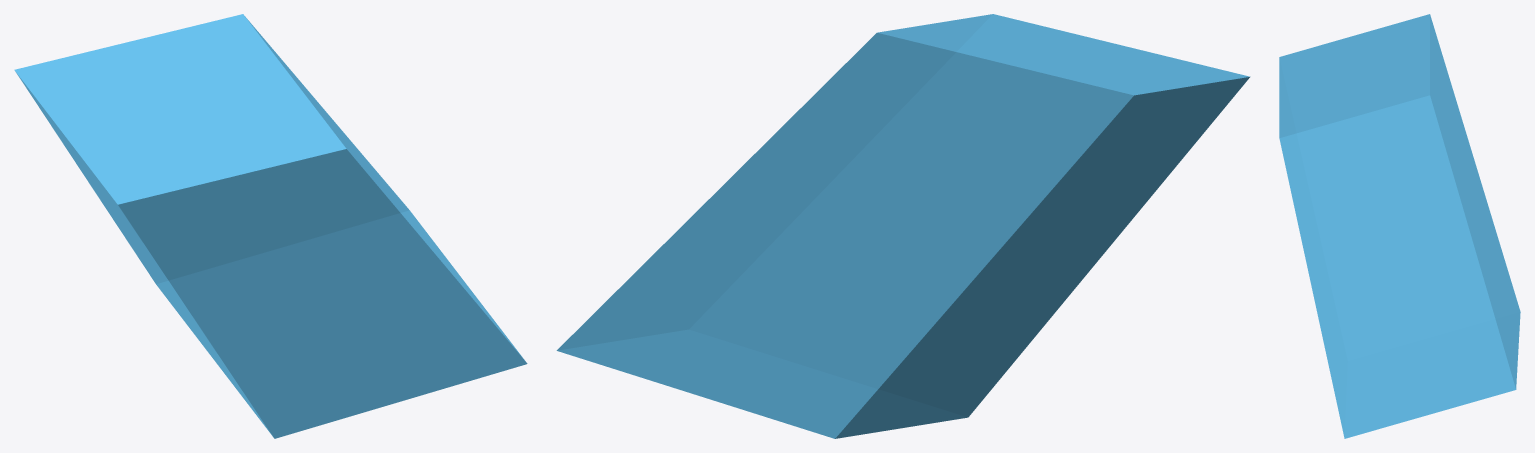
File: Event_420107950_HBrechit_27.fbx
3 renders of one model, left to right at view 1: azimuth 30°, elevation 25°; view 2: azimuth 150°, elevation 25°; view 3: azimuth 270°, elevation 25°, orthographic. The views are drawn at different scales.
Visible parts, largest first — view 1: Model; view 2: Model; view 3: Model.
Boxes of the visible parts, x1,y1,x2,y2 form: Model: (14, 14, 527, 438); Model: (556, 14, 1250, 438); Model: (1279, 14, 1520, 438).
Bounding box in the file's own units: 0.9717 × 0.771 × 0.6133.
